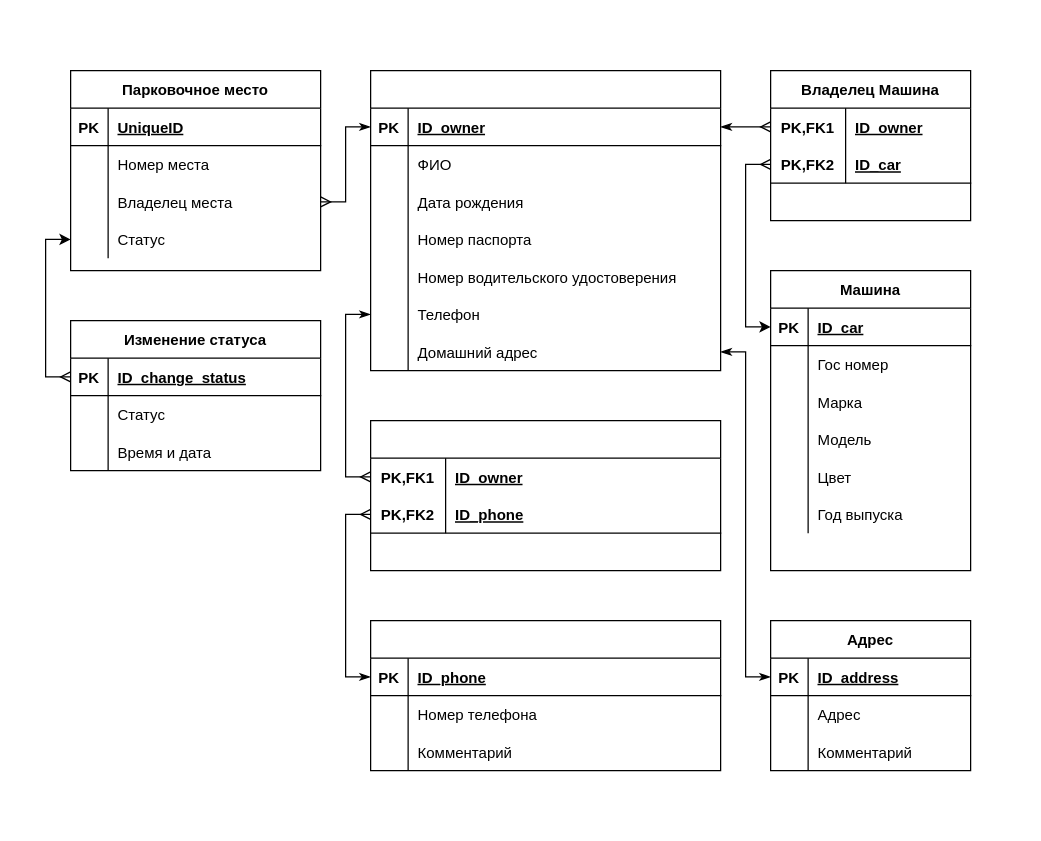
Image size: 1041x841. Some labels were removed from this diagram. Each missing label, with the box of its shape:
Владелец: (369, 69, 721, 371)
Владелец Телефоны: (369, 419, 721, 571)
Телефоны: (369, 619, 721, 771)
